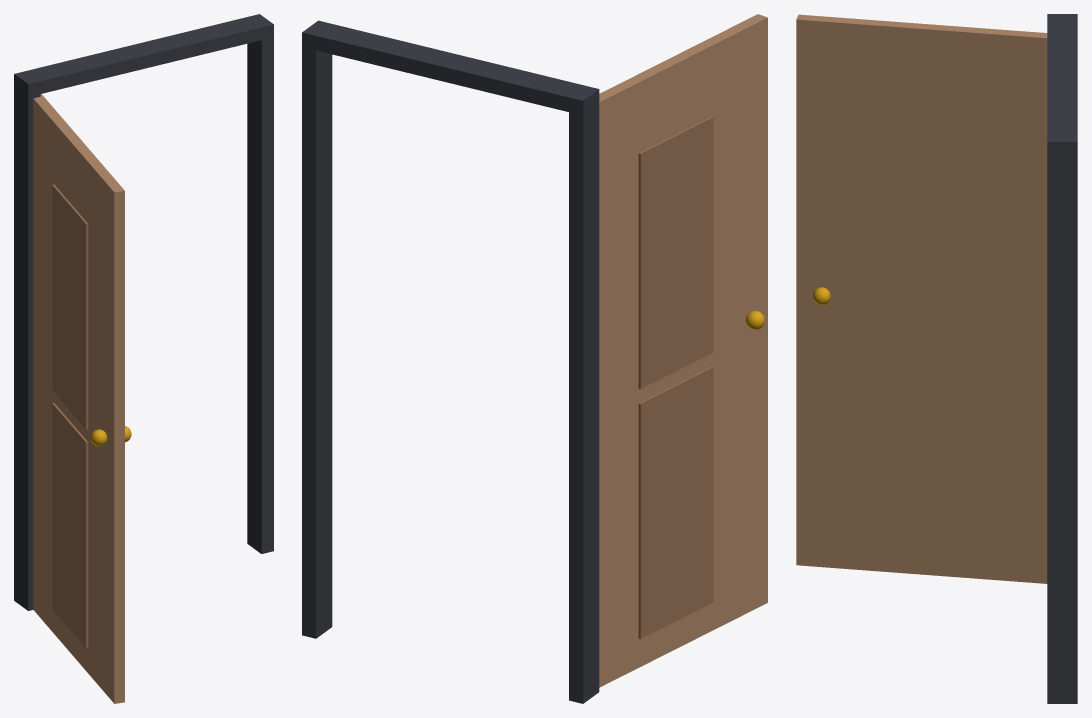
The model's file is door_open.glb.
3 views of the same model, side by side, from view 1: azimuth 30°, elevation 25°; view 2: azimuth 150°, elevation 25°; view 3: azimuth 270°, elevation 25° (orthographic). The views are drawn at different scales.
Parts seen in each view (by area): view 1: box (×6); view 2: box (×6); view 3: box (×3).
Part boxes in pixels (x1,y1,x2,y2): box (×6): (14, 14, 273, 703); box (×6): (302, 14, 767, 703); box (×3): (796, 14, 1077, 703).
Bounding box in the file's own units: 1.16 × 2.05 × 0.93.
